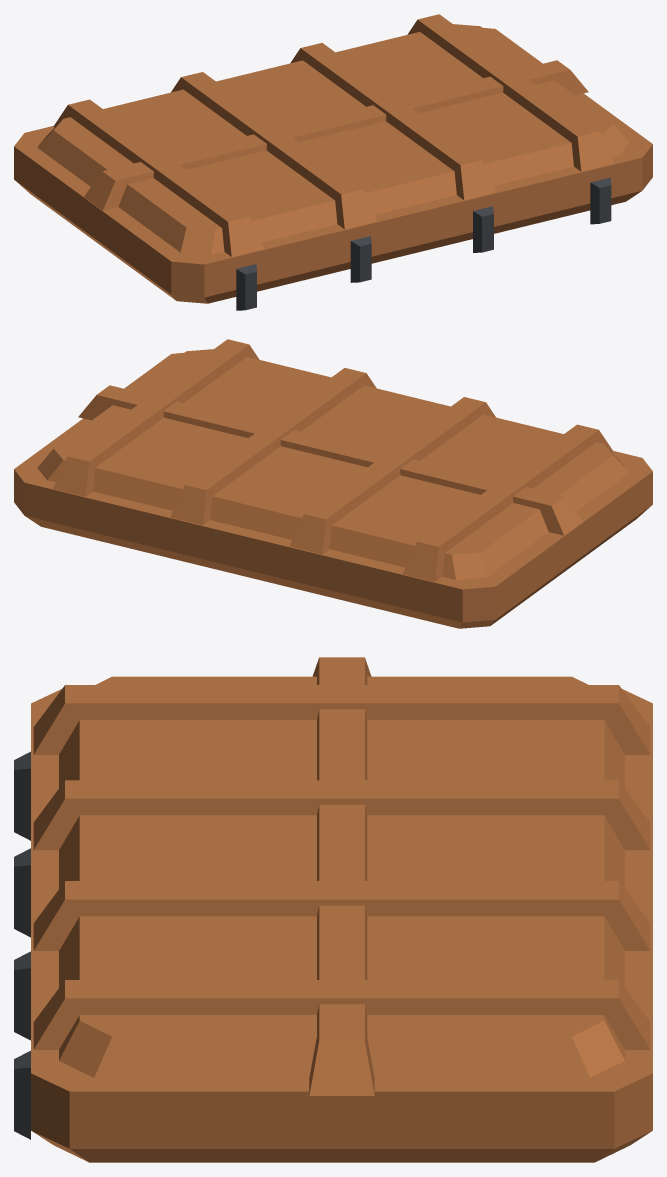
Rendered from SM_Prop_Crate_Plastic_Lid_02.glb.
The picture shows the model from 3 angles, top to bottom: view 1: azimuth 30°, elevation 25°; view 2: azimuth 150°, elevation 25°; view 3: azimuth 270°, elevation 25°; orthographic projection. The views are drawn at different scales.
Visible parts, largest first — view 1: SM_Prop_Crate_Plastic_Lid_02; view 2: SM_Prop_Crate_Plastic_Lid_02; view 3: SM_Prop_Crate_Plastic_Lid_02.
Part boxes in pixels (bbox=[...]): SM_Prop_Crate_Plastic_Lid_02: bbox=[14, 14, 652, 310]; SM_Prop_Crate_Plastic_Lid_02: bbox=[14, 339, 652, 628]; SM_Prop_Crate_Plastic_Lid_02: bbox=[14, 657, 652, 1162].
Bounding box in the file's own units: 1.21 × 0.1936 × 0.798.
Materials: 1 (1 with a texture image).
